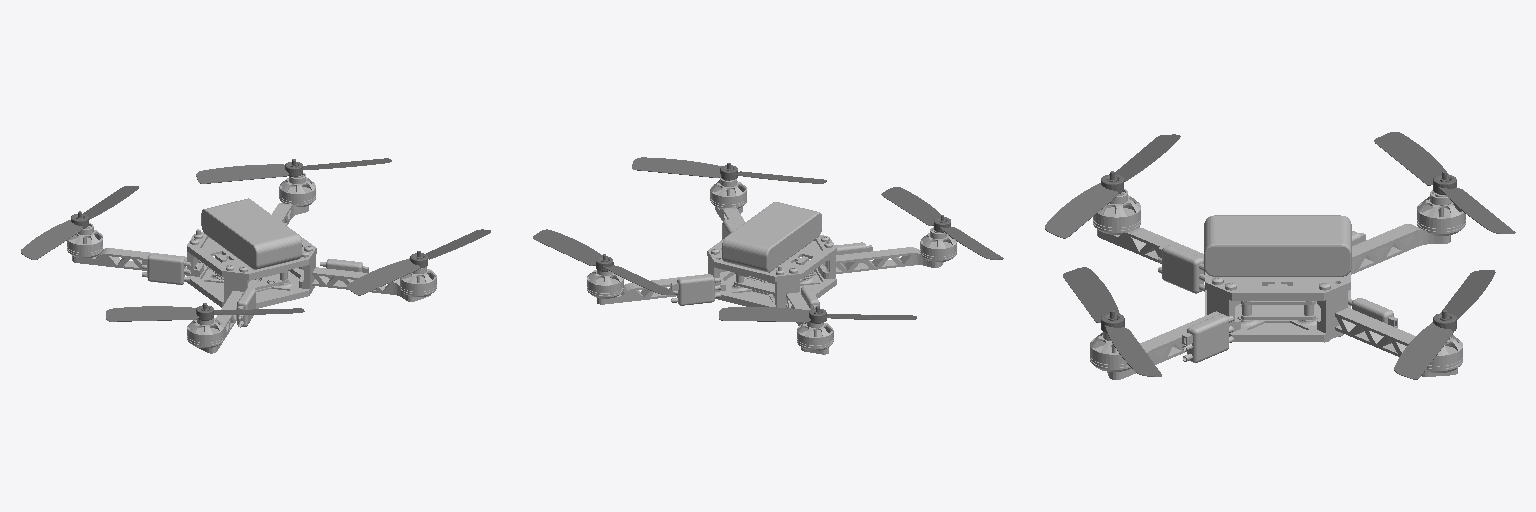
The robot description file, URDF, robot "drone_v1":
<?xml version="1.0" encoding="utf-8"?>
<!-- This URDF was automatically created by SolidWorks to URDF Exporter! Originally created by [author] ([email redacted]) 
     Commit Version: 1.6.0-4-g7f85cfe  Build Version: 1.6.7995.38578
     For more information, please see http://wiki.ros.org/sw_urdf_exporter -->
<robot xmlns:xacro="http://www.ros.org/wiki/xacro"
  name="drone_v1">
  <link
    name="base_link">
    <inertial>
      <origin
        xyz="0 0 0"
        rpy="0 0 0" />
      <mass
        value="0.115605092226254" />
      <inertia
        ixx="3.75767469277814E-05"
        ixy="-1.0709603238069E-10"
        ixz="-1.14861608382435E-19"
        iyy="5.8294617050047E-05"
        iyz="6.72280657348742E-10"
        izz="2.46020331281748E-05" />
    </inertial>
    <visual>
      <origin
        xyz="0 0 0"
        rpy="0 0 0" />
      <geometry>
        <mesh
          filename="../meshes/base_link_2.stl" />
      </geometry>
      <material
        name="">
        <color
          rgba="0.752941176470588 0.752941176470588 0.752941176470588 1" />
      </material>
    </visual>
    <collision>
      <origin
        xyz="0 0 0"
        rpy="0 0 0" />
      <geometry>
        <mesh
          filename="../meshes/base_link_2.stl" />
      </geometry>
    </collision>
  </link>
  <link
    name="link_front_left">
<inertial>
  <origin xyz="0 0 0" rpy="0 0 0"/>
  <mass value="0.01"/>
  <inertia
    ixx="1e-4"
    iyy="1e-4"
    izz="1e-4"
    ixy="0"
    ixz="0"
    iyz="0"/>
</inertial>

    <visual>
      <origin
        xyz="0 0 0"
        rpy="0 0 0" />
      <geometry>
        <mesh
          filename="../meshes/link_front_left.stl" />
      </geometry>
      <material
        name="">
        <color
          rgba="0.50196 0.50196 0.50196 1" />
      </material>
    </visual>
    <collision>
      <origin
        xyz="0 0 0"
        rpy="0 0 0" />
      <geometry>
        <mesh
          filename="../meshes/link_front_left.stl" />
      </geometry>
    </collision>
  </link>
  <joint
    name="joint_front_left"
    type="continuous">
    <origin
      xyz="0.079 -0.08 0.016"
      rpy="-1.5708 0 1.8679" />
    <parent
      link="base_link" />
    <child
      link="link_front_left" />
    <axis
      xyz="0 1 0" />
  </joint>
  <link
    name="link_rear_left">
 <inertial>
  <origin xyz="0 0 0" rpy="0 0 0"/>
  <mass value="0.01"/>
  <inertia
    ixx="1e-4"
    iyy="1e-4"
    izz="1e-4"
    ixy="0"
    ixz="0"
    iyz="0"/>
</inertial>

    <visual>
      <origin
        xyz="0 0 0"
        rpy="0 0 0" />
      <geometry>
        <mesh
          filename="../meshes/link_rear_left.stl" />
      </geometry>
      <material
        name="">
        <color
          rgba="0.50196 0.50196 0.50196 1" />
      </material>
    </visual>
    <collision>
      <origin
        xyz="0 0 0"
        rpy="0 0 0" />
      <geometry>
        <mesh
          filename="../meshes/link_rear_left.stl" />
      </geometry>
    </collision>
  </link>
  <joint
    name="joint_rear_left"
    type="continuous">
    <origin
      xyz="0.079 0.08 0.016"
      rpy="-1.5708 0 1.2601" />
    <parent
      link="base_link" />
    <child
      link="link_rear_left" />
    <axis
      xyz="0 1 0" />
  </joint>
  <link
    name="link_front_right">
<inertial>
  <origin xyz="0 0 0" rpy="0 0 0"/>
  <mass value="0.01"/>
  <inertia
    ixx="1e-4"
    iyy="1e-4"
    izz="1e-4"
    ixy="0"
    ixz="0"
    iyz="0"/>
</inertial>

    <visual>
      <origin
        xyz="0 0 0"
        rpy="0 0 0" />
      <geometry>
        <mesh
          filename="../meshes/link_front_right.stl" />
      </geometry>
      <material
        name="">
        <color
          rgba="0.50196 0.50196 0.50196 1" />
      </material>
    </visual>
    <collision>
      <origin
        xyz="0 0 0"
        rpy="0 0 0" />
      <geometry>
        <mesh
          filename="../meshes/link_front_right.stl" />
      </geometry>
    </collision>
  </link>
  <joint
    name="joint_front_right"
    type="continuous">
    <origin
      xyz="-0.079 -0.08 0.016"
      rpy="-1.5708 0 1.106" />
    <parent
      link="base_link" />
    <child
      link="link_front_right" />
    <axis
      xyz="0 1 0" />
  </joint>
  <link
    name="link_rear_right">
<inertial>
  <origin xyz="0 0 0" rpy="0 0 0"/>
  <mass value="0.01"/>
  <inertia
    ixx="1e-4"
    iyy="1e-4"
    izz="1e-4"
    ixy="0"
    ixz="0"
    iyz="0"/>
</inertial>

    <visual>
      <origin
        xyz="0 0 0"
        rpy="0 0 0" />
      <geometry>
        <mesh
          filename="../meshes/link_rear_right.stl" />
      </geometry>
      <material
        name="">
        <color
          rgba="0.50196 0.50196 0.50196 1" />
      </material>
    </visual>
    <collision>
      <origin
        xyz="0 0 0"
        rpy="0 0 0" />
      <geometry>
        <mesh
          filename="../meshes/link_rear_right.stl" />
      </geometry>
    </collision>
  </link>
  <joint
    name="joint_rear_right"
    type="continuous">
    <origin
      xyz="-0.079 0.08 0.016"
      rpy="-1.5708 0 2.0502" />
    <parent
      link="base_link" />
    <child
      link="link_rear_right" />
    <axis
      xyz="0 1 0" />
  </joint>
</robot>

--- Render facts (derived) ---
Views: 3 orthographic renders of the robot side by side, from view 1: azimuth 30°, elevation 25°; view 2: azimuth 150°, elevation 25°; view 3: azimuth 270°, elevation 25°.
Robot: drone_v1 — 5 links, 4 joints (4 continuous); root link base_link; default pose: all joints at 0.
Visible links, largest first — view 1: base_link, link_front_right, link_rear_left, link_front_left, link_rear_right; view 2: base_link, link_rear_right, link_front_left, link_rear_left, link_front_right; view 3: base_link, link_front_right, link_rear_right, link_front_left, link_rear_left.
Boxes of the visible links, x1,y1,x2,y2 form: base_link: (67, 173, 436, 353); link_front_right: (106, 303, 304, 321); link_rear_left: (196, 158, 391, 183); link_front_left: (347, 229, 490, 295); link_rear_right: (21, 186, 138, 259); base_link: (587, 177, 956, 354); link_rear_right: (719, 306, 916, 323); link_front_left: (632, 157, 826, 183); link_rear_left: (533, 229, 676, 294); link_front_right: (881, 187, 1003, 259); base_link: (1090, 189, 1465, 379); link_front_right: (1045, 134, 1180, 238); link_rear_right: (1374, 132, 1515, 233); link_front_left: (1063, 267, 1161, 376); link_rear_left: (1394, 270, 1495, 379).
Bounding box of the posed robot: 0.2784 × 0.2268 × 0.0459 m (x, y, z).
Meshes: 5 distinct files referenced, 5 mesh visuals loaded (5 binary STL).